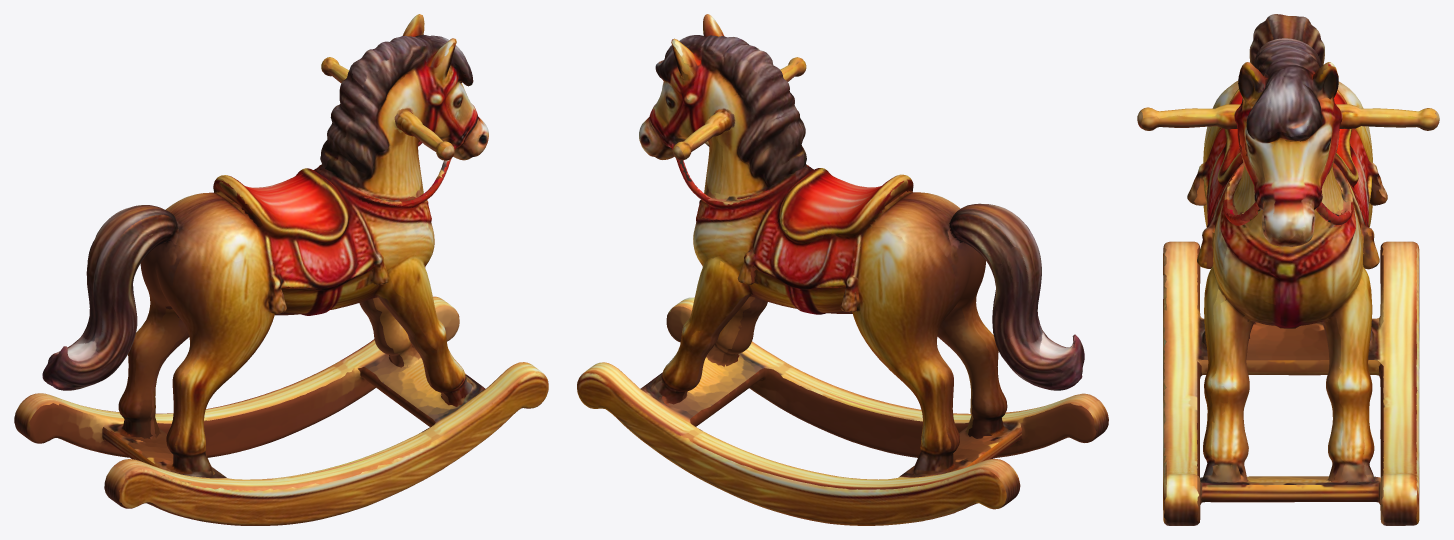
Rendered from rocking_horse_hunyuan.glb.
3 renders of one model, left to right at view 1: azimuth 30°, elevation 25°; view 2: azimuth 150°, elevation 25°; view 3: azimuth 270°, elevation 25°, orthographic. The views are drawn at different scales.
Parts seen in each view (by area): view 1: tmpqkb2iahp.ply; view 2: tmpqkb2iahp.ply; view 3: tmpqkb2iahp.ply.
Boxes of the visible parts, left/top/right/bottom form: tmpqkb2iahp.ply: left=14, top=14, right=548, bottom=525; tmpqkb2iahp.ply: left=577, top=14, right=1108, bottom=525; tmpqkb2iahp.ply: left=1137, top=14, right=1439, bottom=525.
Size of the model in its own units: 1.99 by 1.74 by 0.943.
1 material, 1 textured.
